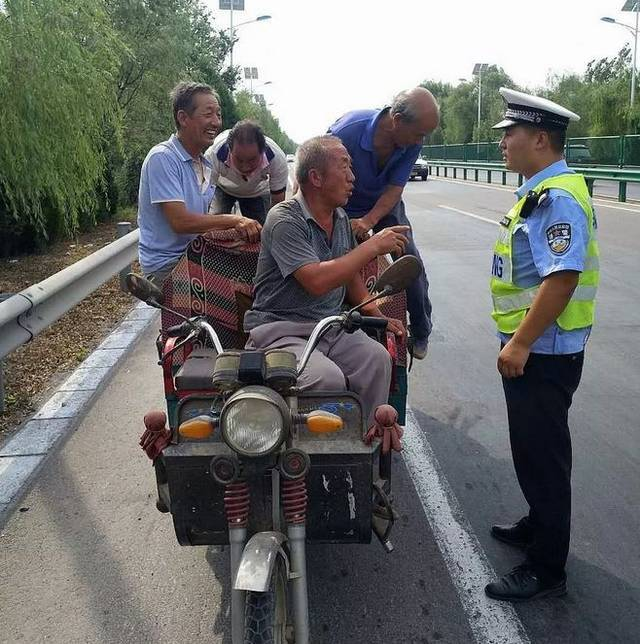driver: (254, 135, 403, 416)
overloading: (121, 69, 446, 644)
passenger: (124, 76, 225, 278), (308, 78, 463, 157), (210, 121, 289, 235)
